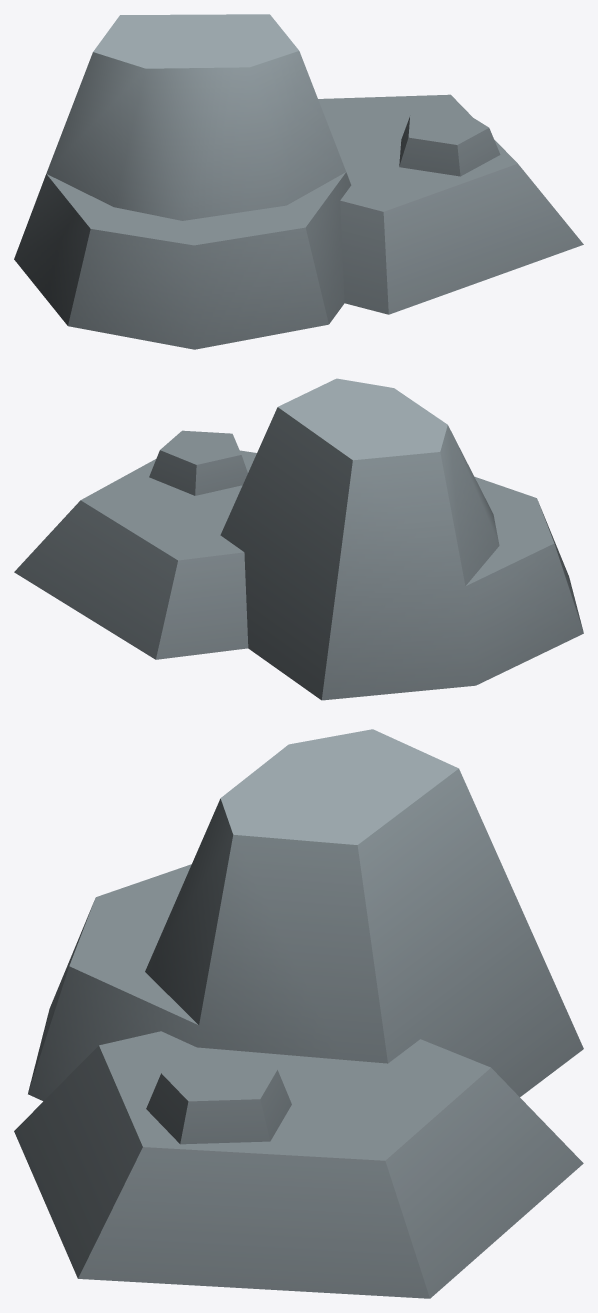
File: rock_single_E.gltf
3 renders of one model, top to bottom at view 1: azimuth 30°, elevation 25°; view 2: azimuth 150°, elevation 25°; view 3: azimuth 270°, elevation 25°, orthographic. The views are drawn at different scales.
Visible parts, largest first — view 1: rock_single_E; view 2: rock_single_E; view 3: rock_single_E.
Boxes of the visible parts, bbox=[...] form: rock_single_E: bbox=[14, 14, 583, 349]; rock_single_E: bbox=[14, 378, 583, 700]; rock_single_E: bbox=[14, 729, 583, 1298].
Size of the model in its own units: 0.4881 by 0.1948 by 0.3475.
Materials: 1 (1 with a texture image).
